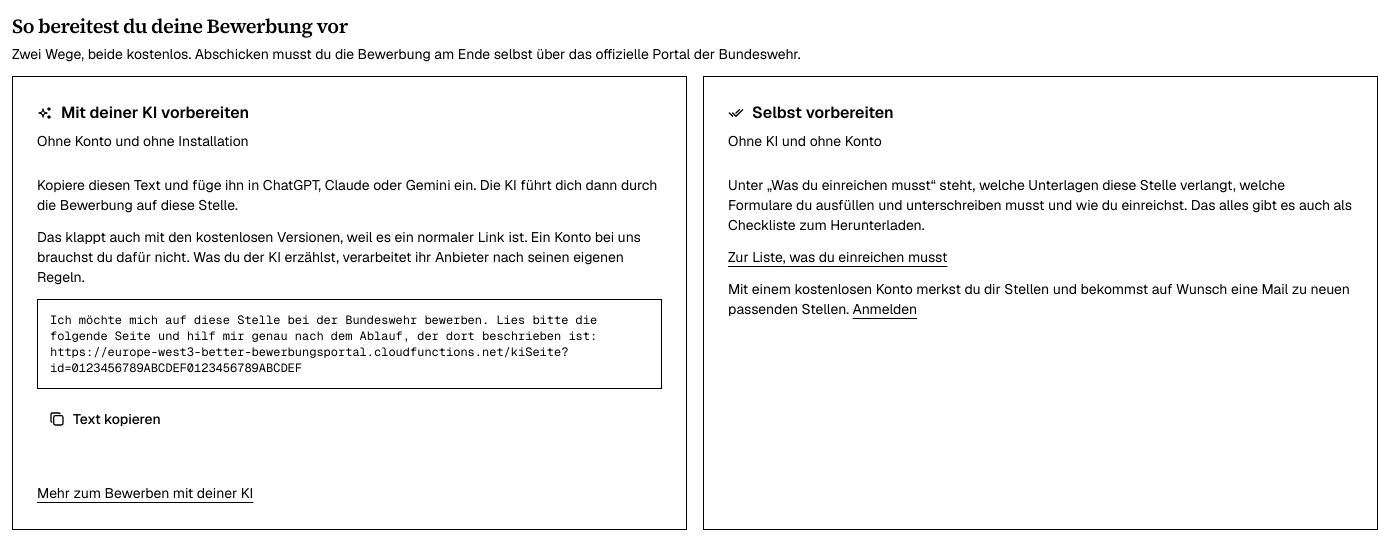
Test: BewerbungsWege › kopiert den fertigen Chat-Text und sagt es an
Click the button "Text kopieren" at (105, 419), box [37, 401, 173, 437]
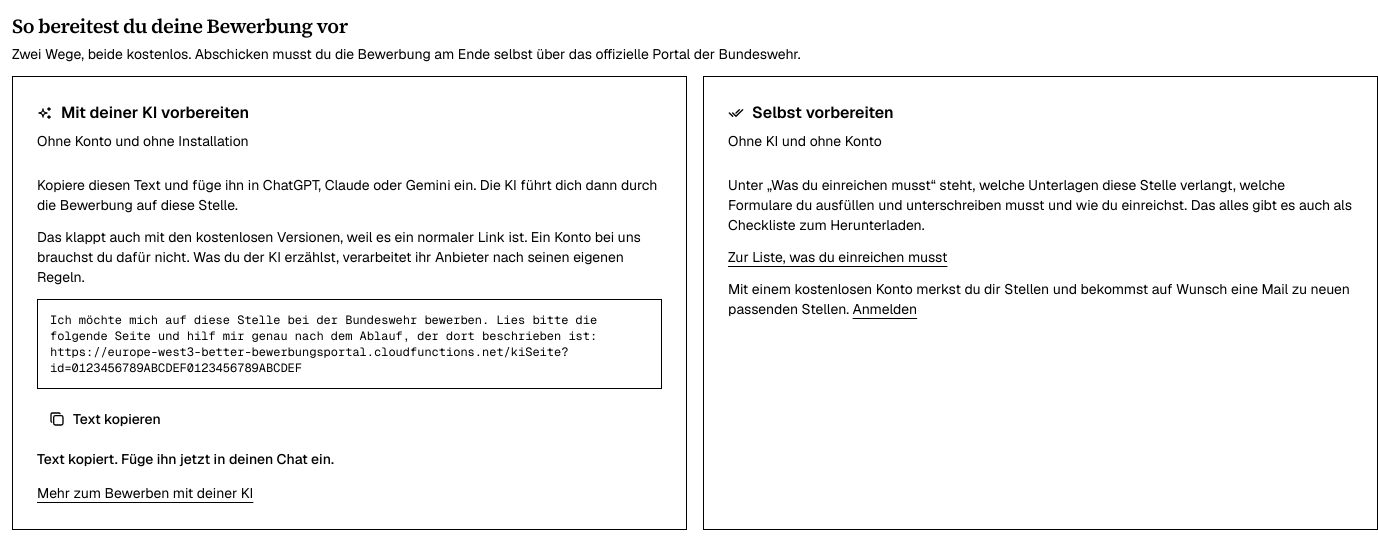
Expected: the message reads "Text kopiert. Füge ihn jetzt in deinen Chat ein.", [37, 450, 334, 468]
